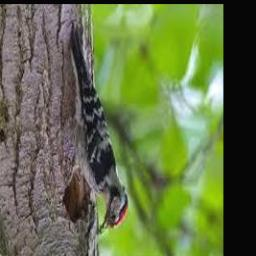Woodpecker: (63, 23, 128, 237)
